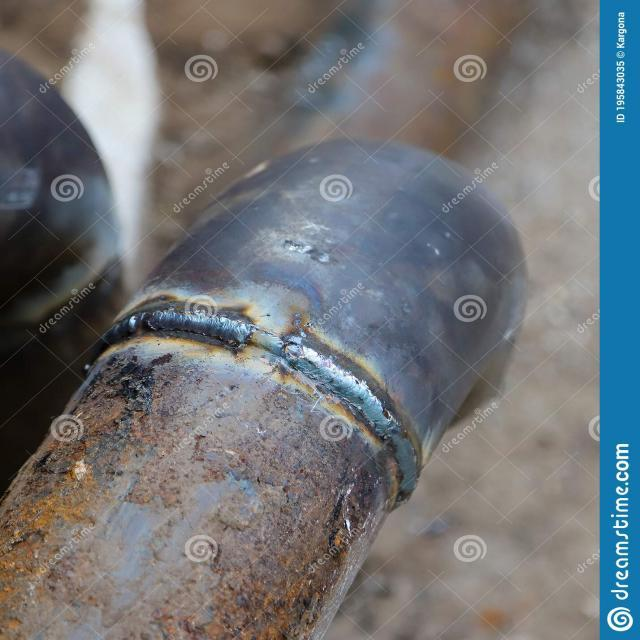Bad Weld: (88, 306, 422, 510)
